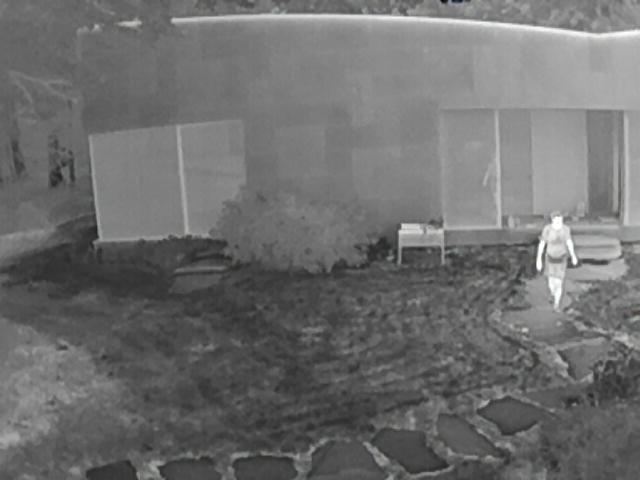person: (537, 211, 578, 310)
